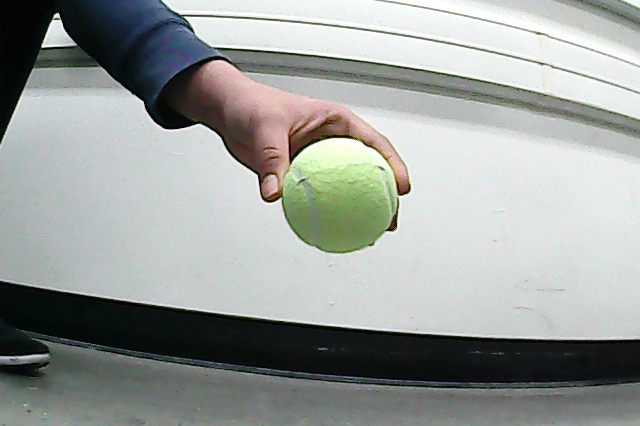ball: (283, 138, 397, 254)
